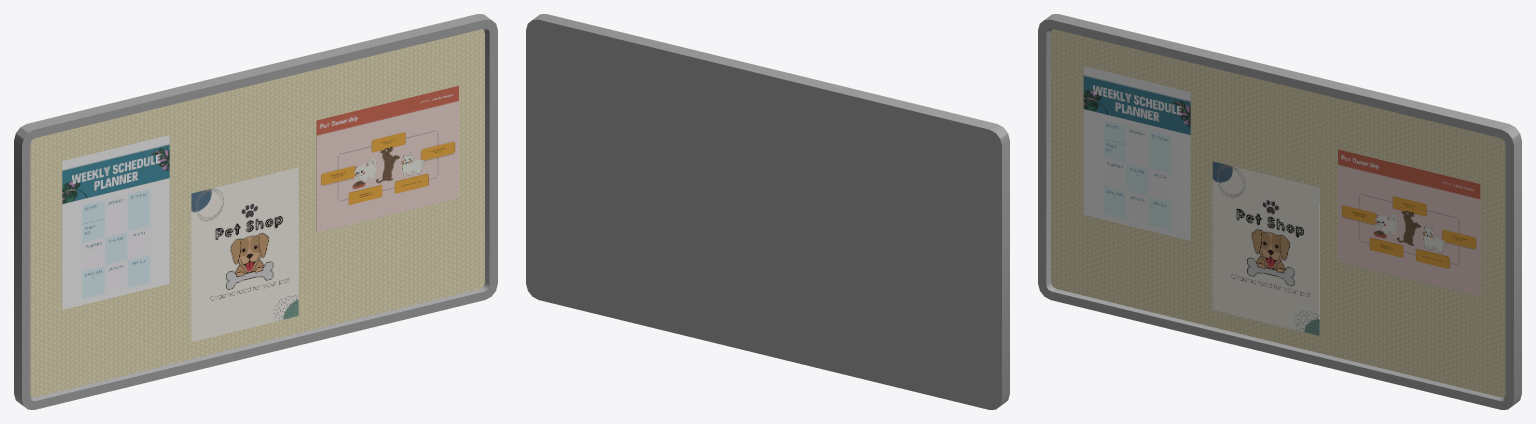
File: planboard.fbx
3 renders of one model, left to right at view 1: azimuth 30°, elevation 25°; view 2: azimuth 150°, elevation 25°; view 3: azimuth 330°, elevation 25°, orthographic.
Parts seen in each view (by area): view 1: Board, Poster1, Poster2, Poster3; view 2: Board; view 3: Board, Poster1, Poster2, Poster3.
Boxes of the visible parts, x1=… form: Board: x1=14, y1=14, x2=497, y2=409; Poster1: x1=62, y1=135, x2=169, y2=309; Poster2: x1=191, y1=167, x2=298, y2=341; Poster3: x1=316, y1=85, x2=458, y2=232; Board: x1=526, y1=14, x2=1009, y2=409; Board: x1=1038, y1=14, x2=1521, y2=409; Poster1: x1=1083, y1=66, x2=1190, y2=240; Poster2: x1=1212, y1=161, x2=1319, y2=335; Poster3: x1=1338, y1=149, x2=1480, y2=295.
Size of the model in its own units: 355 by 200 by 10.13.
1 material, 1 textured.
